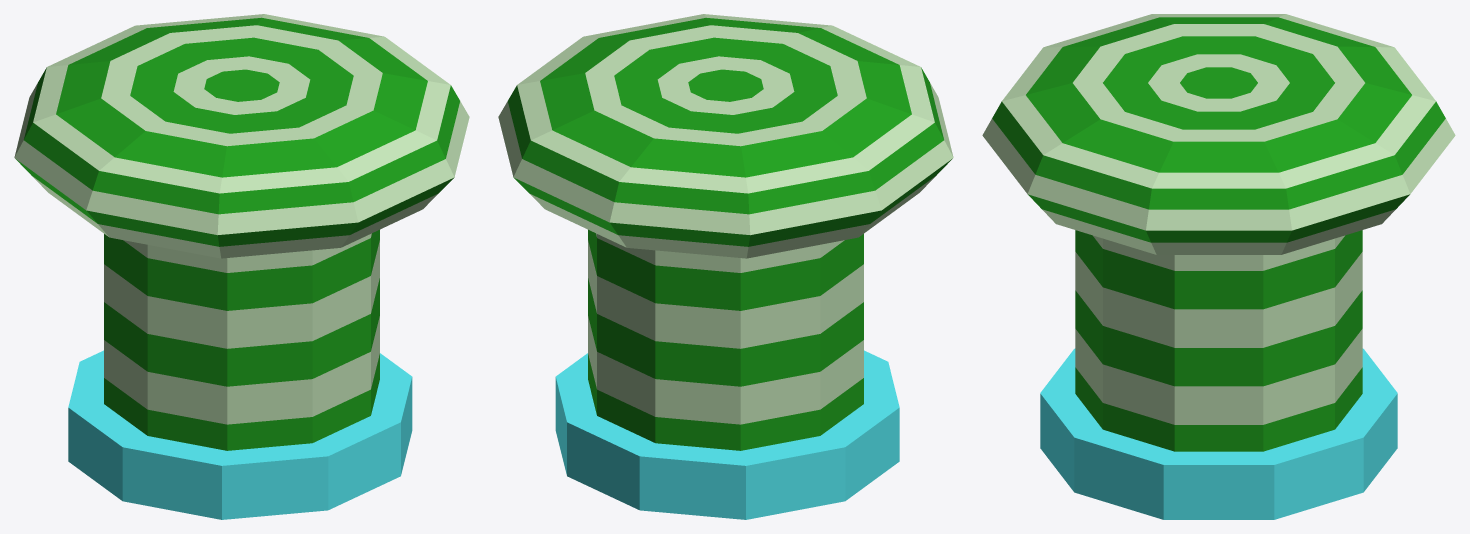
File: TrampolineGreen.fbx
3 views of the same model, side by side, from view 1: azimuth 30°, elevation 25°; view 2: azimuth 150°, elevation 25°; view 3: azimuth 270°, elevation 25° (orthographic).
Visible parts, largest first — view 1: TrampolineGreen; view 2: TrampolineGreen; view 3: TrampolineGreen.
Boxes of the visible parts, bbox=[...] form: TrampolineGreen: bbox=[14, 14, 469, 519]; TrampolineGreen: bbox=[498, 14, 953, 519]; TrampolineGreen: bbox=[982, 14, 1455, 519].
Size of the model in its own units: 252 by 226 by 265.
